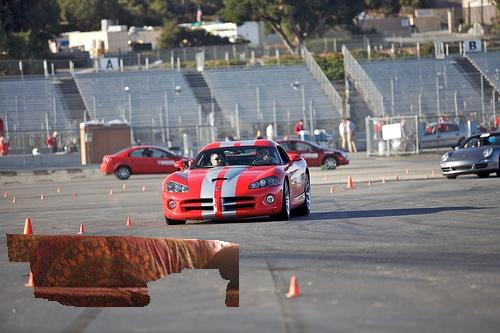tampered: (7, 234, 239, 307)
